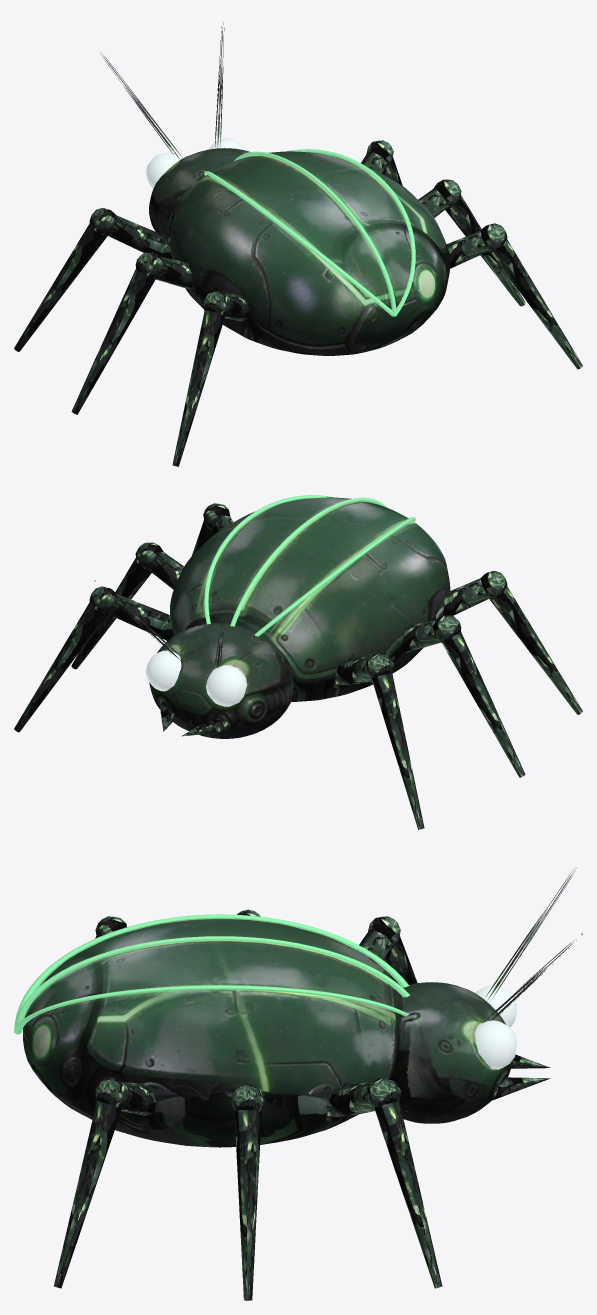
File: byte_mite.glb
3 views of the same model, one above another, from view 1: azimuth 30°, elevation 25°; view 2: azimuth 150°, elevation 25°; view 3: azimuth 270°, elevation 25° (orthographic). The views are drawn at different scales.
Parts seen in each view (by area): view 1: shell, glow, head, leg.009, leg.013, leg.011, leg.005, leg.007, leg.006, leg.002, eye, leg.012 (+2 smaller); view 2: shell, head, leg.009, leg.005, glow, leg.003, leg.013, eye, leg.007, leg.004, leg.014, leg.006 (+5 smaller); view 3: shell, head, glow, leg.007, leg.003, leg.011, eye, leg.004, leg.005, leg.002, leg.012, leg (+1 smaller).
Part boxes in pixels (x1,y1,x2,y2): shell: (170, 151, 450, 355); glow: (204, 149, 415, 316); head: (149, 148, 250, 237); leg.009: (71, 252, 163, 414); leg.013: (172, 290, 231, 466); leg.011: (480, 223, 582, 369); leg.005: (14, 208, 116, 351); leg.007: (433, 179, 525, 306); leg.006: (107, 215, 171, 259); leg.002: (100, 23, 224, 158); eye: (145, 138, 244, 189); leg.012: (446, 231, 489, 268); shell: (170, 497, 450, 701); head: (149, 623, 294, 738); leg.009: (433, 615, 525, 777); leg.005: (365, 653, 424, 829); glow: (204, 495, 415, 636); leg.003: (14, 586, 116, 732); leg.013: (480, 570, 582, 714); eye: (145, 650, 247, 706); leg.007: (71, 542, 163, 669); leg.004: (107, 594, 173, 640); leg.014: (443, 578, 489, 615); leg.006: (333, 656, 371, 688); shell: (23, 918, 403, 1147); head: (390, 982, 512, 1123); glow: (14, 914, 409, 1034); leg.007: (230, 1084, 265, 1300); leg.003: (367, 1078, 442, 1288); leg.011: (54, 1078, 128, 1288); eye: (475, 985, 516, 1069); leg.004: (326, 1081, 374, 1121); leg.005: (368, 916, 417, 984); leg.002: (484, 867, 582, 1021); leg.012: (121, 1082, 156, 1115); leg: (491, 1077, 550, 1100).
Size of the model in its own units: 1.13 by 0.5456 by 1.02.
5 materials, 3 textured.
